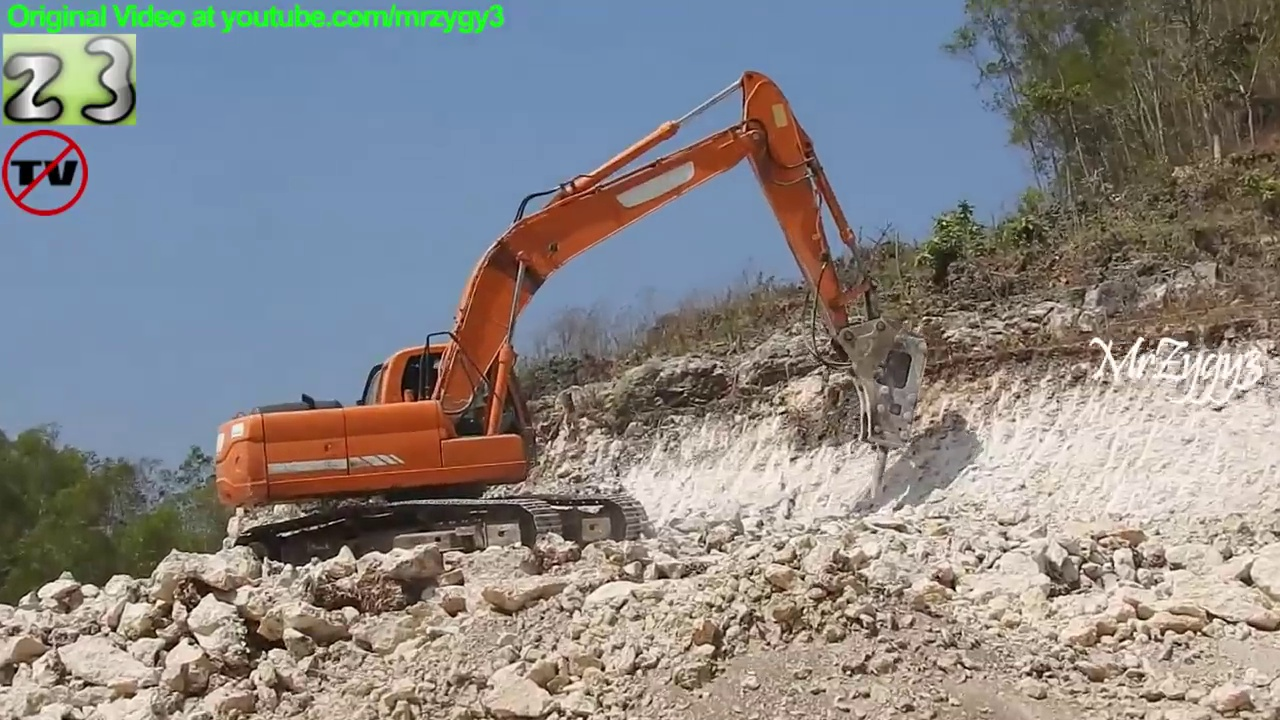excavator breaker: (213, 68, 936, 576)
